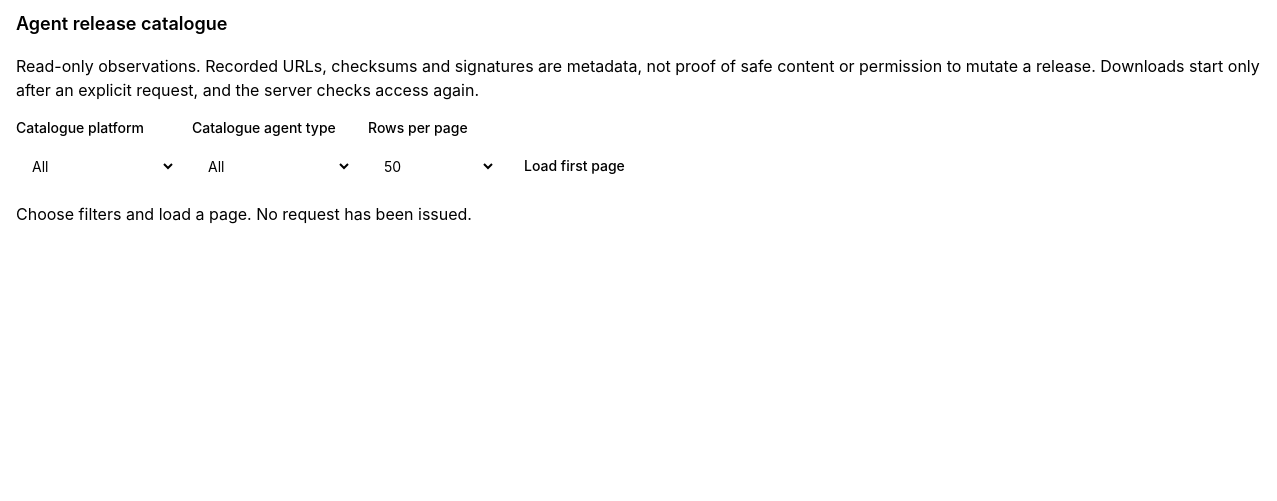
Test case: clears rows on agentType edit without an automatic request
Click the button "Load first page" at (574, 166), box [512,146,637,186]
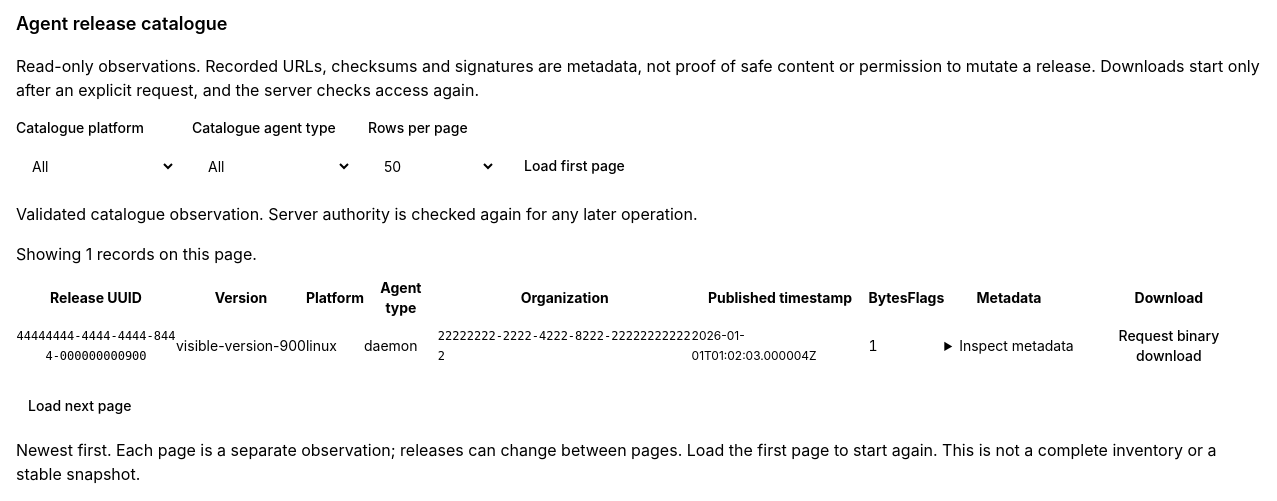
Expected: the text "visible-version-900" is shown, [176,318,306,374]
Select "desktop" in the dropdown labelled "Catalogue agent type" at (272, 166), box [192,146,352,186]
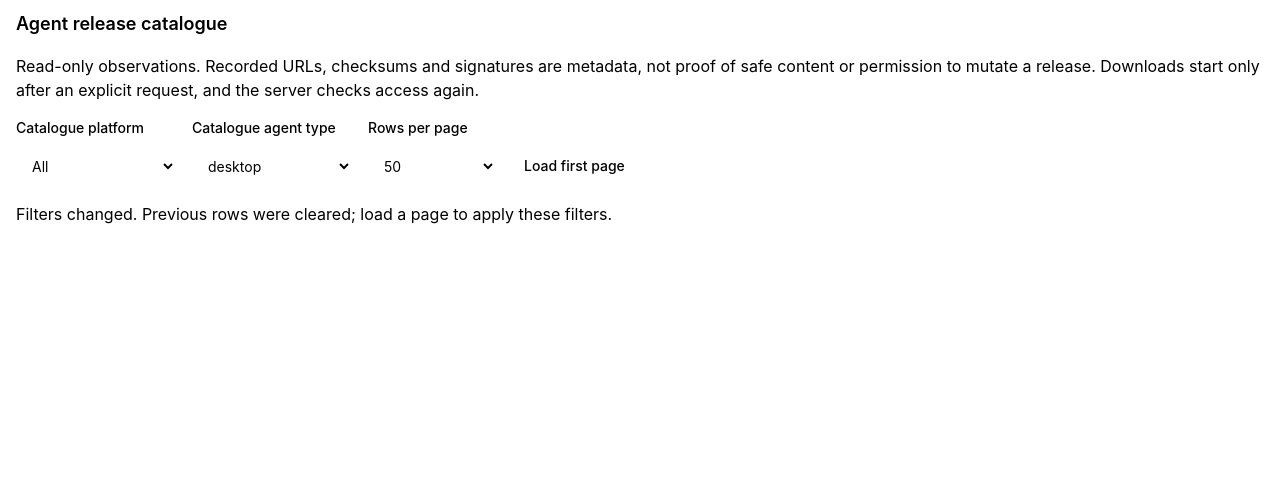
Expected: the text "visible-version-900" is gone
Expected: the message reads "Filters changed. Previous rows were cleared; load a page to apply these filters.", [16,204,612,224]
Click the button "Load first page" at (574, 166), box [512,146,637,186]
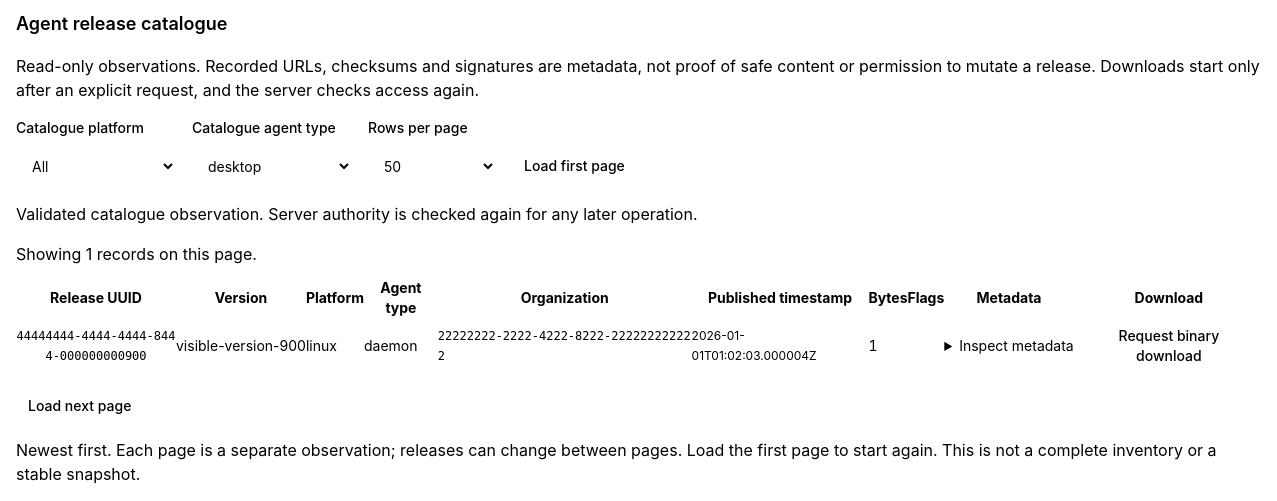
Expected: the text "visible-version-900" is shown, [176,318,306,374]
